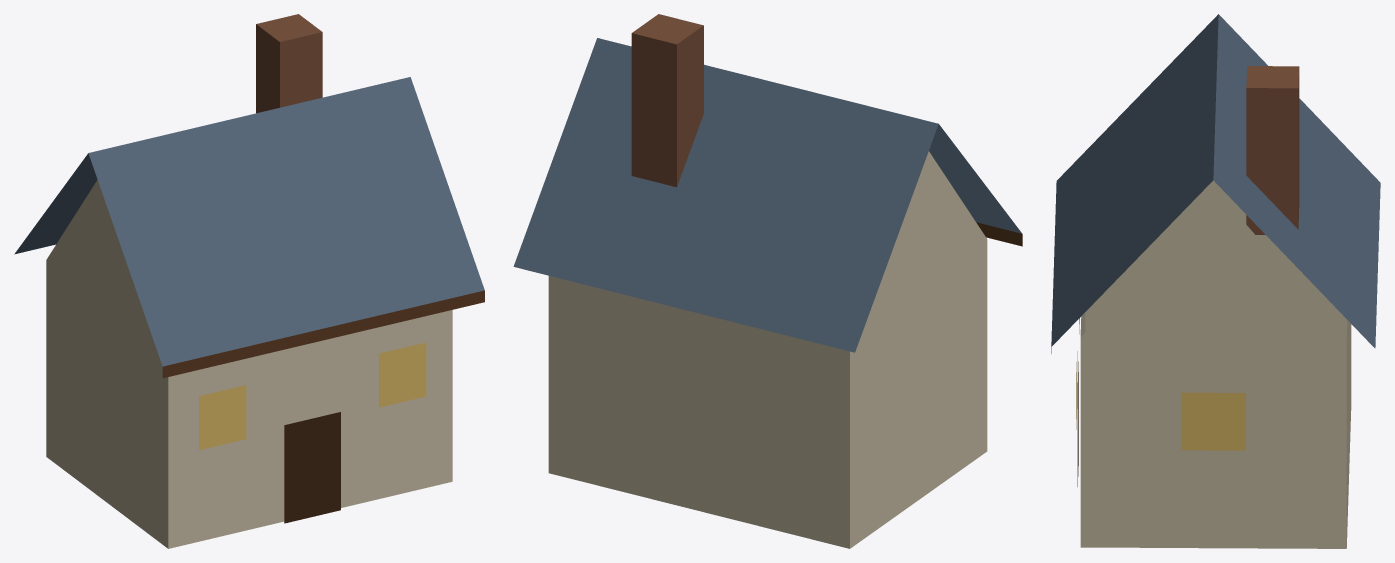
The model's file is house3.glb.
3 renders of one model, left to right at view 1: azimuth 30°, elevation 25°; view 2: azimuth 150°, elevation 25°; view 3: azimuth 270°, elevation 25°, orthographic. The views are drawn at different scales.
Visible parts, largest first — view 1: prop_house3; view 2: prop_house3; view 3: prop_house3.
Part boxes in pixels (box(x1,y1,x2,y2)): prop_house3: box(14, 14, 484, 548); prop_house3: box(513, 14, 1022, 548); prop_house3: box(1051, 14, 1380, 548).
Size of the model in its own units: 0.3437 by 0.412 by 0.2845.
